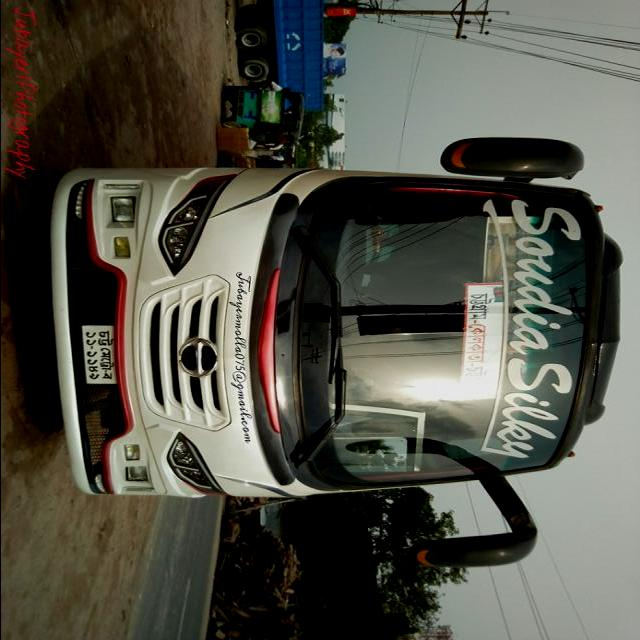bus: (52, 137, 629, 571)
